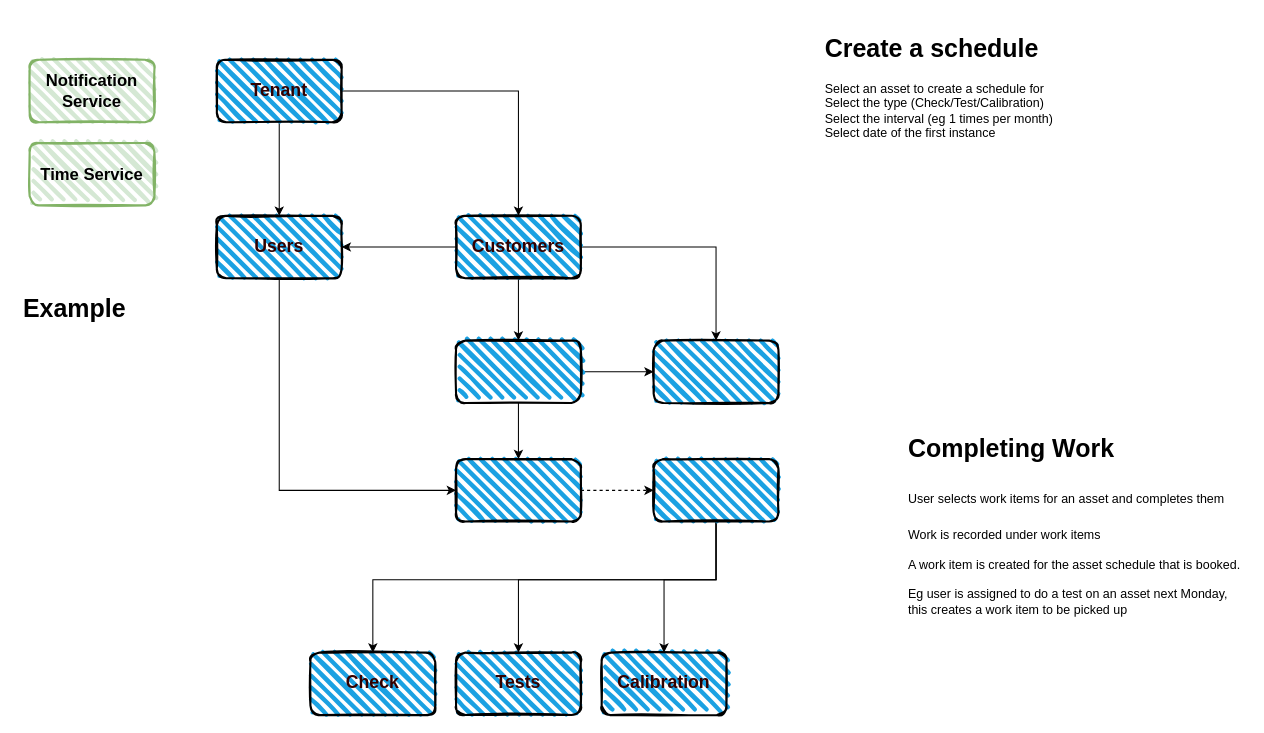
Some shapes in this 1264 by 733 pixel diagram are drawn without their labels. Here are the shapes that lost their labels. From the top down, the centre of each, then its label:
At point (517, 371): "Assets".
At point (715, 371): "Locations".
At point (517, 490): "Schedules".
At point (715, 490): "WorkItems".
